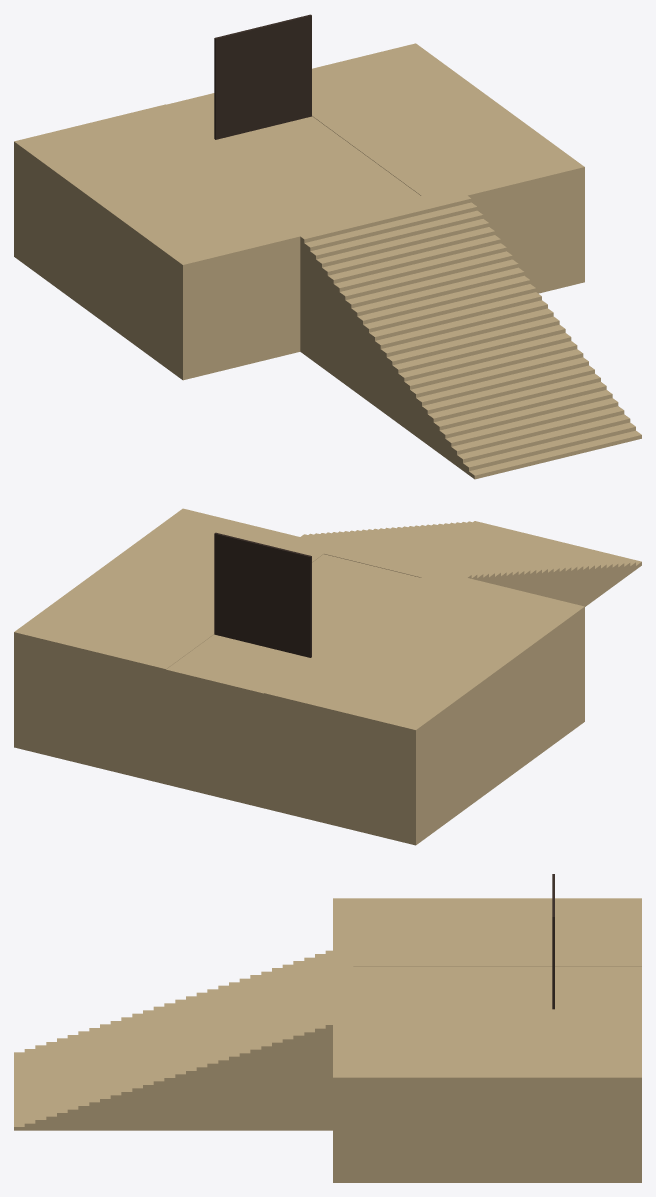
File: foundation.glb
3 renders of one model, top to bottom at view 1: azimuth 30°, elevation 25°; view 2: azimuth 150°, elevation 25°; view 3: azimuth 270°, elevation 25°, orthographic. The views are drawn at different scales.
Visible parts, largest first — view 1: raised-plinth, central-ceremonial-stairs, dark-passage-back; view 2: raised-plinth, central-ceremonial-stairs, dark-passage-back; view 3: raised-plinth, central-ceremonial-stairs.
Boxes of the visible parts, x1=… form: raised-plinth: x1=14, y1=43, x2=584, y2=380; central-ceremonial-stairs: x1=299, y1=194, x2=641, y2=479; dark-passage-back: x1=214, y1=14, x2=311, y2=139; raised-plinth: x1=14, y1=508, x2=584, y2=845; central-ceremonial-stairs: x1=299, y1=521, x2=641, y2=606; dark-passage-back: x1=214, y1=532, x2=311, y2=657; raised-plinth: x1=333, y1=898, x2=641, y2=1182; central-ceremonial-stairs: x1=14, y1=950, x2=336, y2=1130.
Bounding box in the file's own units: 25 × 12.86 × 37.
